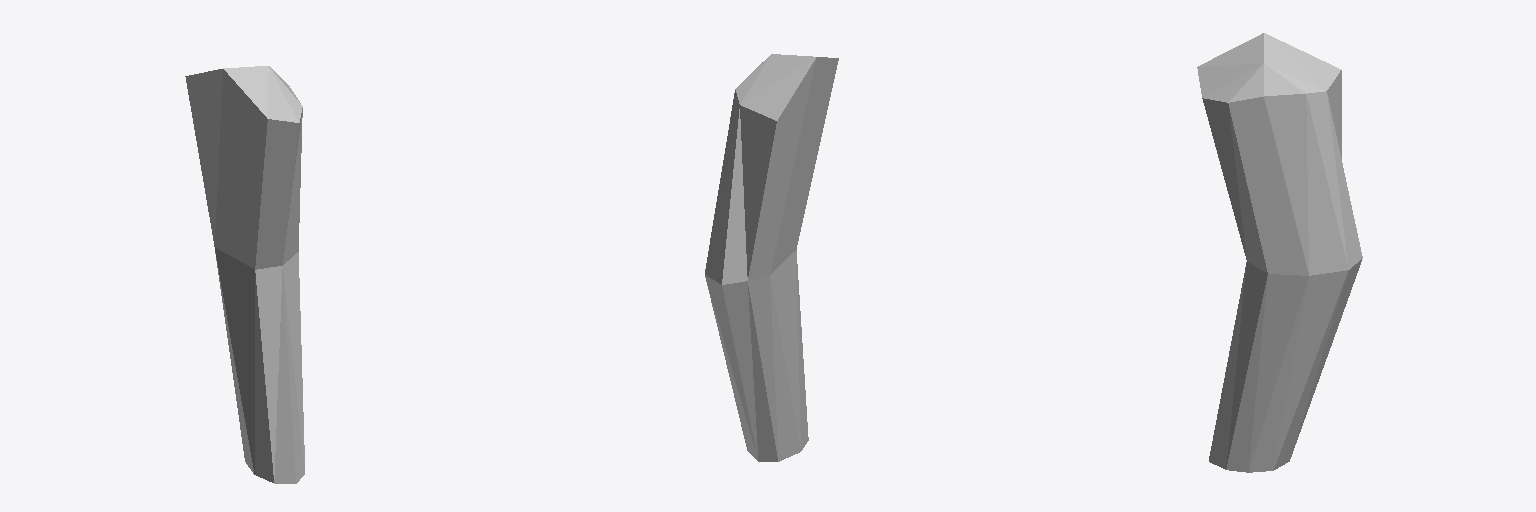
File: hind_leg.obj
3 views of the same model, side by side, from view 1: azimuth 30°, elevation 25°; view 2: azimuth 150°, elevation 25°; view 3: azimuth 270°, elevation 25° (orthographic).
Visible parts, largest first — view 1: Leg; view 2: Leg; view 3: Leg.
Boxes of the visible parts, x1,y1,x2,y2 form: Leg: [185, 66, 304, 483]; Leg: [705, 54, 838, 461]; Leg: [1197, 33, 1362, 472].
Bounding box in the file's own units: 0.356 × 1.69 × 0.626.